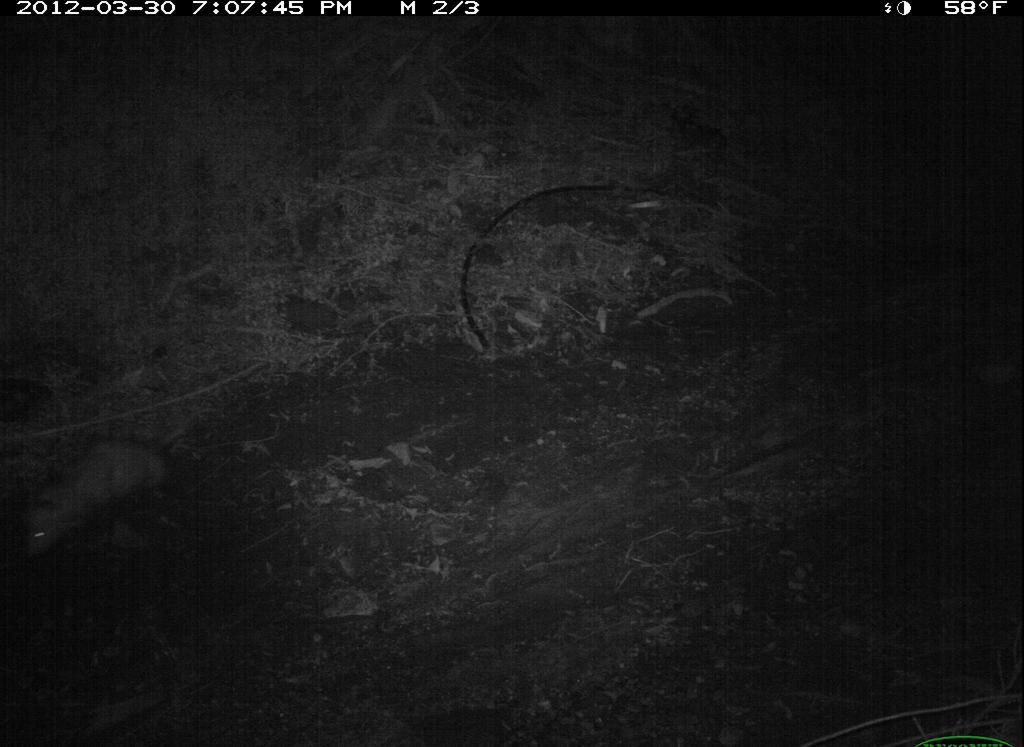opossum: (6, 395, 219, 593)
